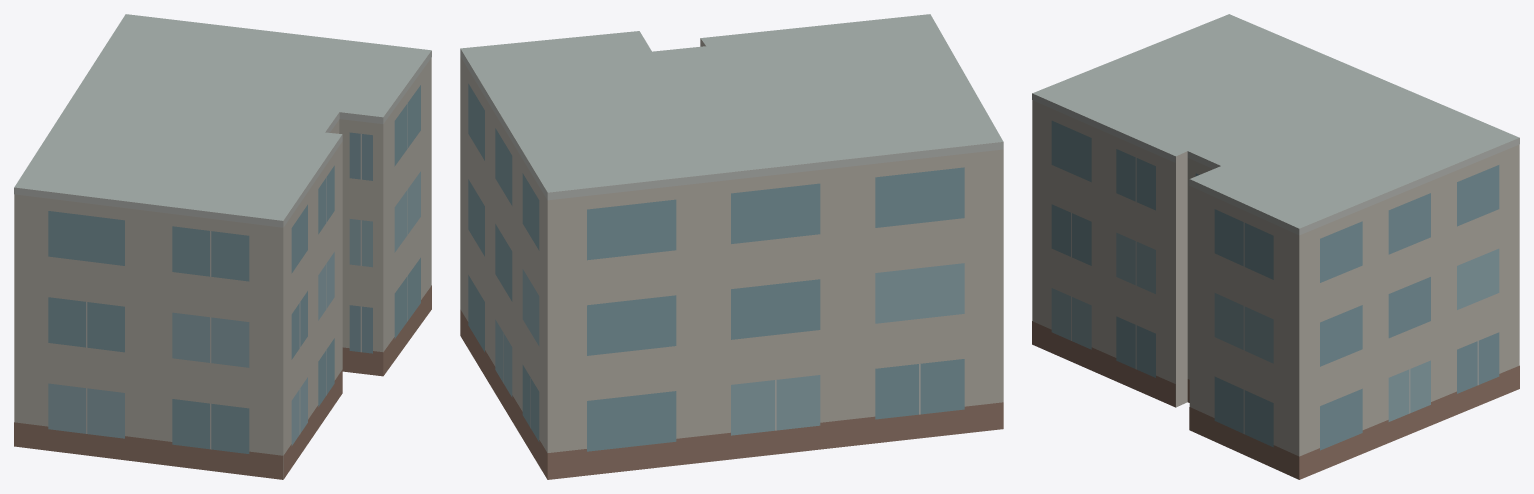
The model's file is survey-upis-32714407.glb.
The picture shows the model from 3 angles, left to right: view 1: azimuth 30°, elevation 25°; view 2: azimuth 150°, elevation 25°; view 3: azimuth 270°, elevation 25°; orthographic projection. The views are drawn at different scales.
Parts seen in each view (by area): view 1: survey-upis-32714407.tmp; view 2: survey-upis-32714407.tmp; view 3: survey-upis-32714407.tmp.
Boxes of the visible parts, x1,y1,x2,y2 form: survey-upis-32714407.tmp: (14, 14, 431, 479); survey-upis-32714407.tmp: (460, 14, 1003, 479); survey-upis-32714407.tmp: (1032, 14, 1519, 479).
Bounding box in the file's own units: 16.79 × 9.15 × 16.11.
